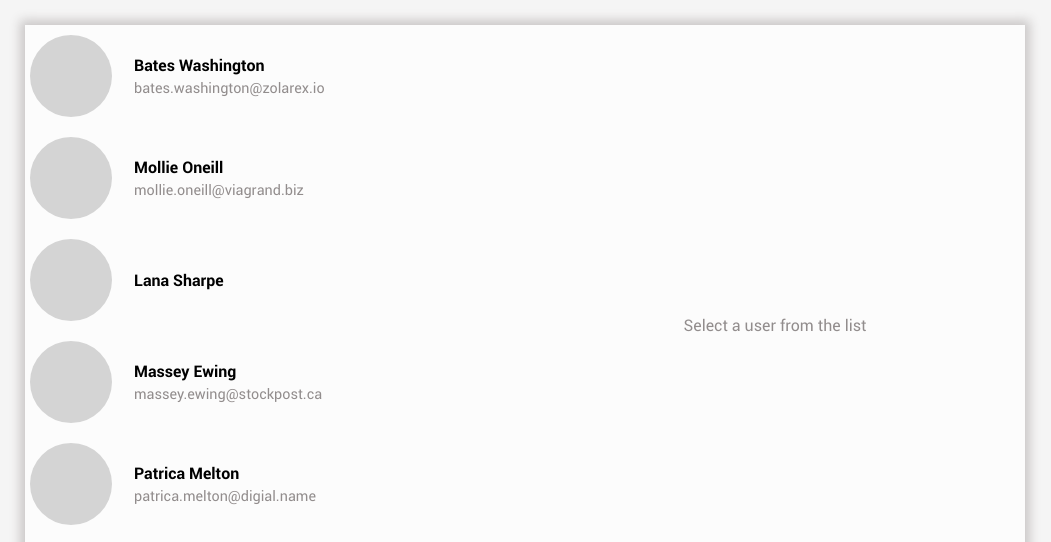
Test: List › item title should be user name and displayed as in the form name input
Click the list item "Bates Washington bates.washington@zolarex.io": coordinates (177, 76) [30,35,325,117]
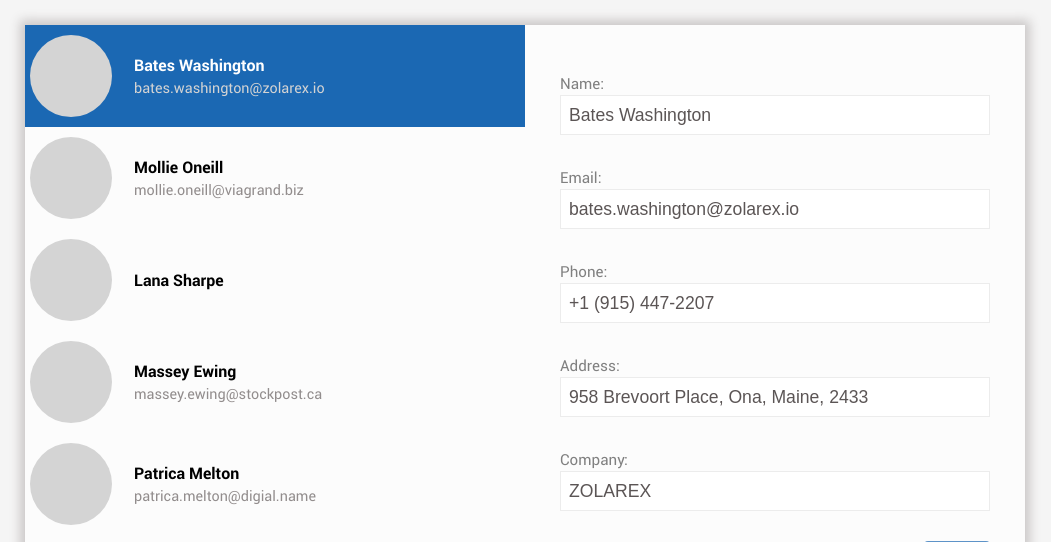
Now the field with id "name-input" holds "Bates Washington", box [560,95,990,135]
